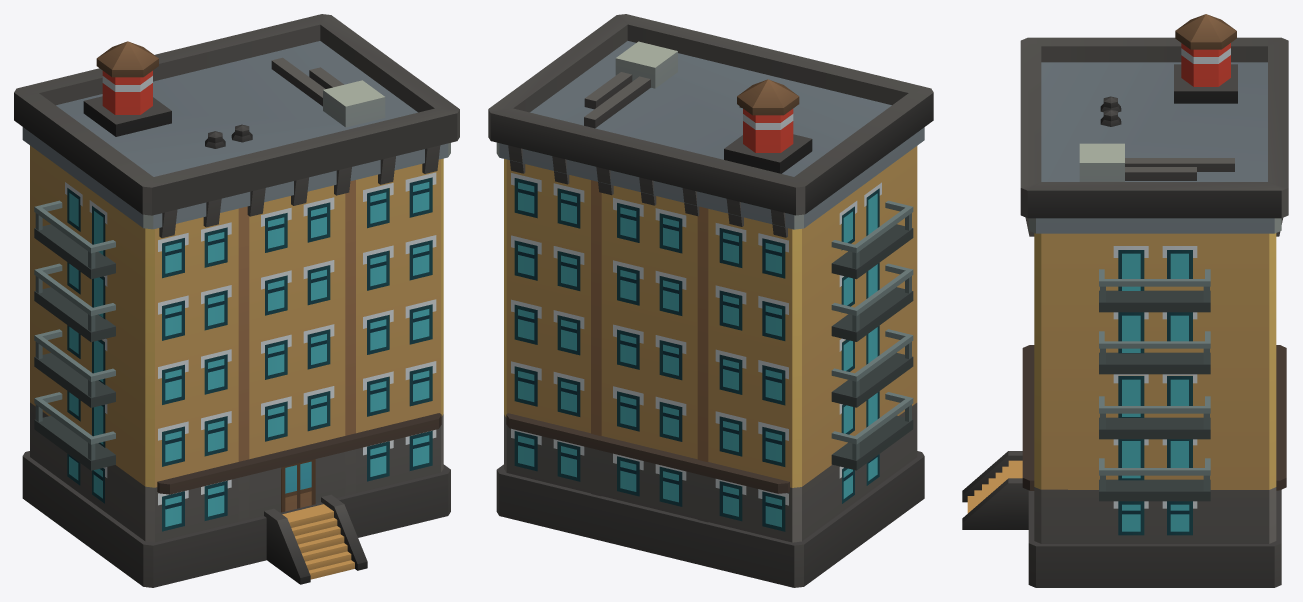
The model's file is Building_cartoon_40.fbx.
3 views of the same model, side by side, from view 1: azimuth 30°, elevation 25°; view 2: azimuth 150°, elevation 25°; view 3: azimuth 270°, elevation 25° (orthographic).
Parts seen in each view (by area): view 1: Building_cartoon_40; view 2: Building_cartoon_40; view 3: Building_cartoon_40.
Boxes of the visible parts, bbox=[...] form: Building_cartoon_40: bbox=[14, 14, 459, 587]; Building_cartoon_40: bbox=[488, 14, 933, 587]; Building_cartoon_40: bbox=[962, 14, 1288, 587].
Size of the model in its own units: 1884 by 2404 by 1546.
